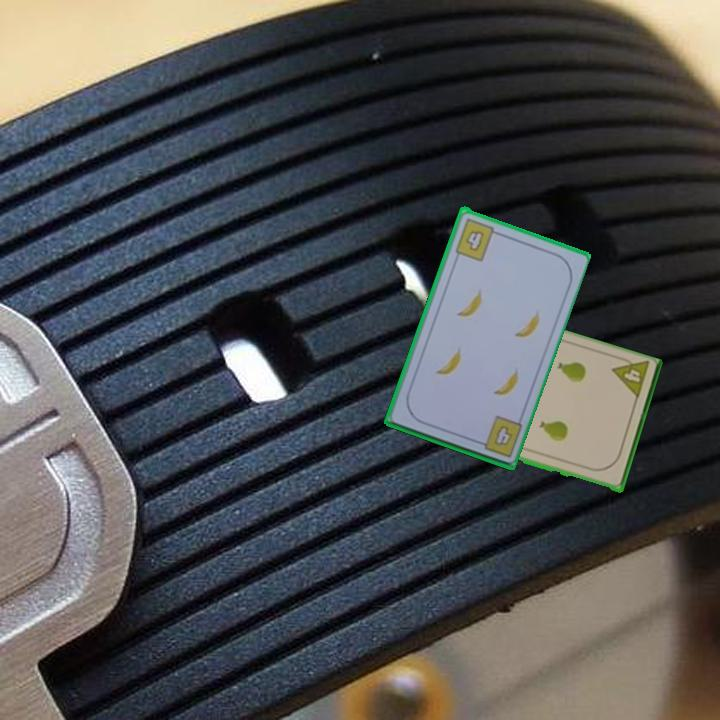4b: (451, 214, 503, 263), (490, 421, 515, 448)
4p: (608, 352, 652, 403)
